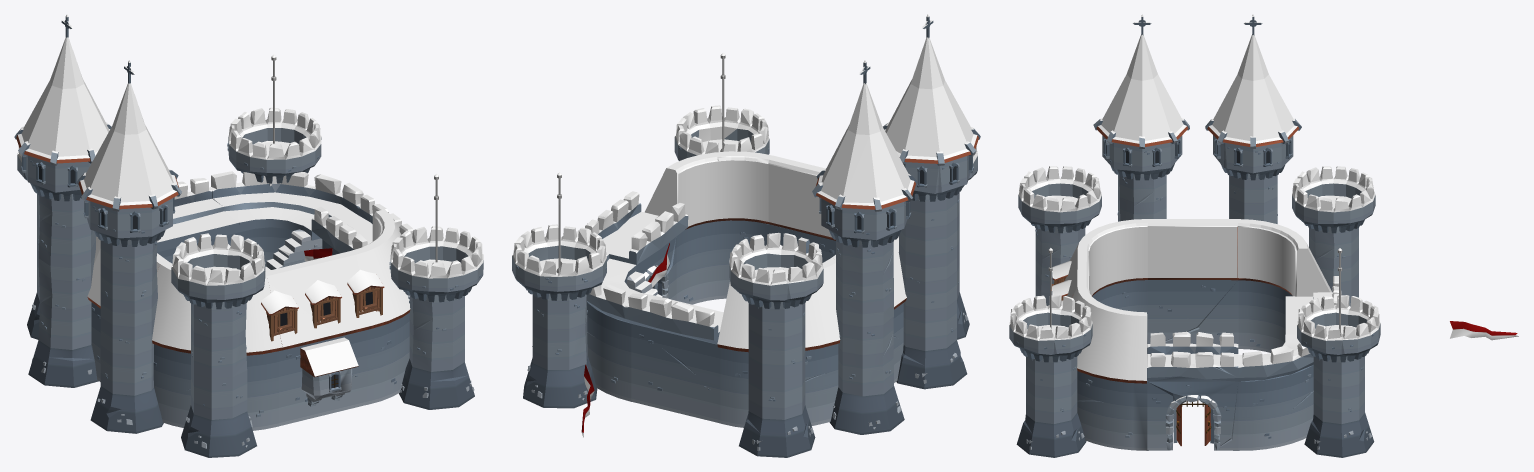
Rendered from CASTLE.fbx.
3 views of the same model, side by side, from view 1: azimuth 30°, elevation 25°; view 2: azimuth 150°, elevation 25°; view 3: azimuth 270°, elevation 25° (orthographic). The views are drawn at different scales.
Parts seen in each view (by area): view 1: Scene; view 2: Scene; view 3: Scene, flag-second.
Boxes of the visible parts, left/top/right/bottom form: Scene: left=14, top=14, right=483, bottom=457; Scene: left=512, top=14, right=980, bottom=457; Scene: left=1009, top=14, right=1380, bottom=457; flag-second: left=1450, top=321, right=1518, bottom=340.
Bounding box in the file's own units: 2368 × 2364 × 3434.
